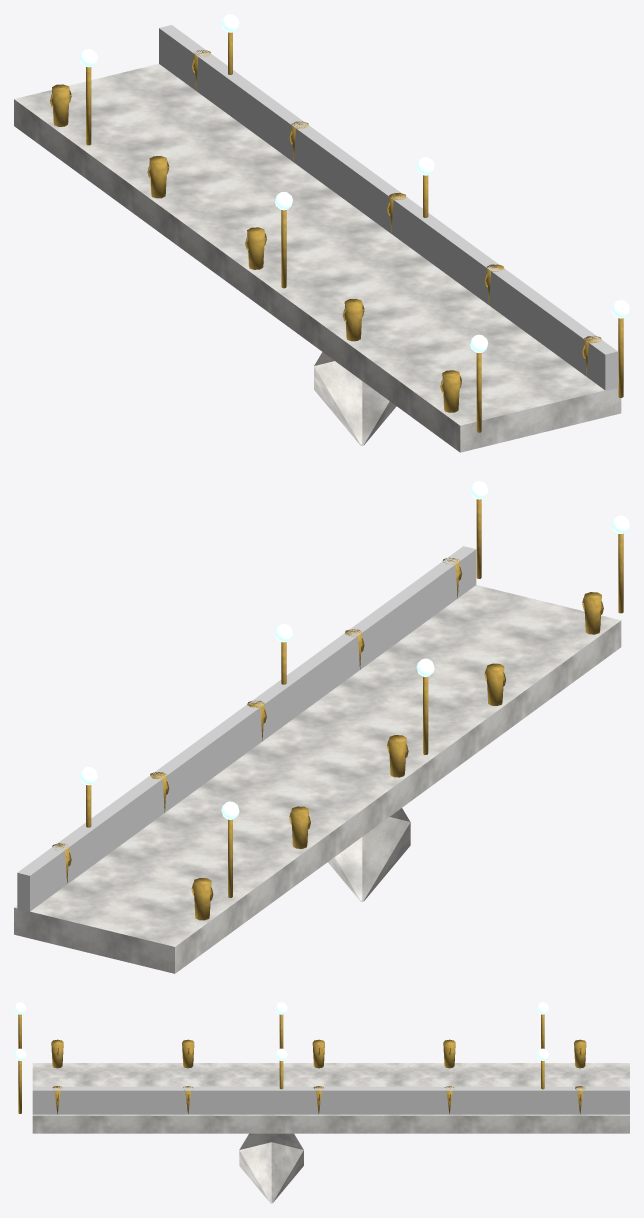
Rendered from cloud_pier.glb.
3 renders of one model, top to bottom at view 1: azimuth 30°, elevation 25°; view 2: azimuth 150°, elevation 25°; view 3: azimuth 270°, elevation 25°, orthographic. The views are drawn at different scales.
Visible parts, largest first — view 1: Pier, Edge-convcolonly.001, Posts, Lamps; view 2: Pier, Edge-convcolonly.001, Posts, Lamps; view 3: Pier, Edge-convcolonly.001, Posts, Lamps.
Boxes of the visible parts, x1,y1,x2,y2 form: Pier: (14, 64, 621, 452); Edge-convcolonly.001: (159, 25, 617, 391); Posts: (50, 32, 623, 432); Lamps: (79, 14, 629, 352); Pier: (14, 585, 621, 973); Edge-convcolonly.001: (17, 546, 476, 912); Posts: (52, 499, 623, 920); Lamps: (79, 481, 629, 819); Pier: (32, 1063, 629, 1203); Edge-convcolonly.001: (32, 1086, 629, 1114); Posts: (18, 1014, 586, 1114); Lamps: (14, 1002, 548, 1060).
Size of what is drawn, in the model's own units: 5.08 by 7.85 by 24.75.
3 materials, 2 textured.
